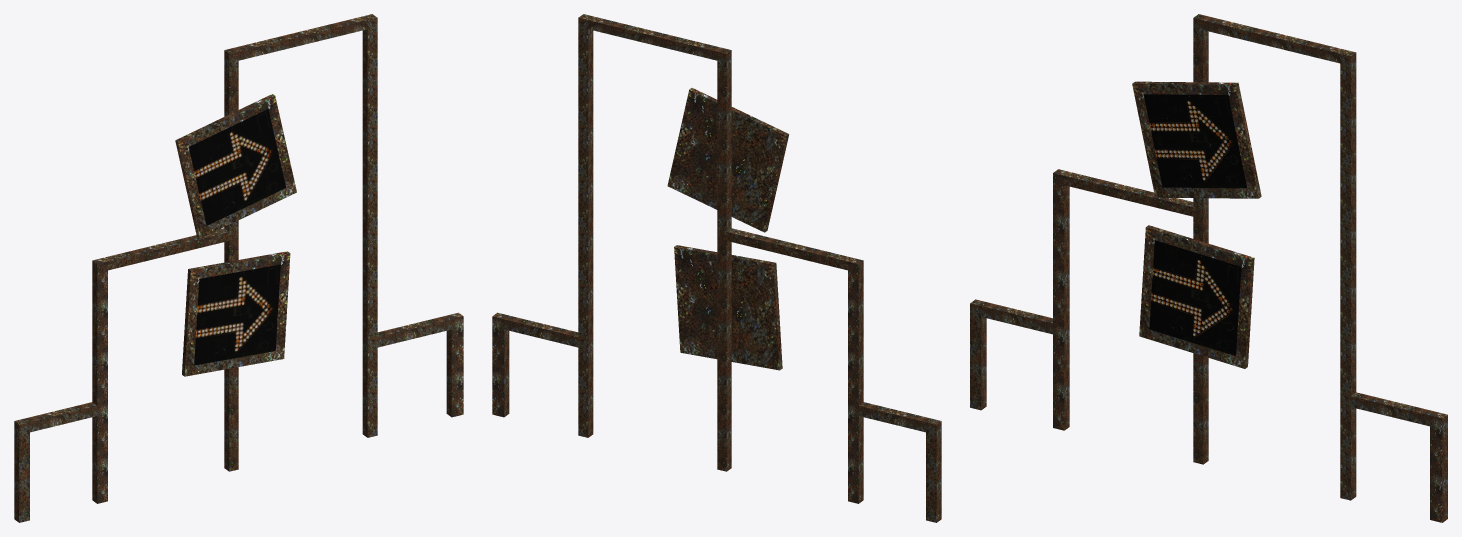
Rendered from ArrowPointer.glb.
The picture shows the model from 3 angles, left to right: view 1: azimuth 30°, elevation 25°; view 2: azimuth 150°, elevation 25°; view 3: azimuth 330°, elevation 25°; orthographic projection. The views are drawn at different scales.
Visible parts, largest first — view 1: Cube_001, Cube; view 2: Cube_001, Cube; view 3: Cube_001, Cube.
Part boxes in pixels (x1,y1,x2,y2): Cube_001: (14,14,463,522); Cube: (175,94,296,376); Cube_001: (492,14,941,522); Cube: (667,88,789,370); Cube_001: (970,14,1447,522); Cube: (1132,81,1261,368).
Size of the model in its own units: 5.65 by 5.08 by 0.1802.
Materials: 2 (2 with a texture image).
